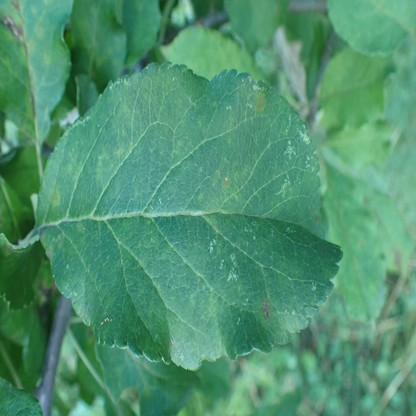scab: (49, 66, 318, 322), (0, 0, 50, 141)
